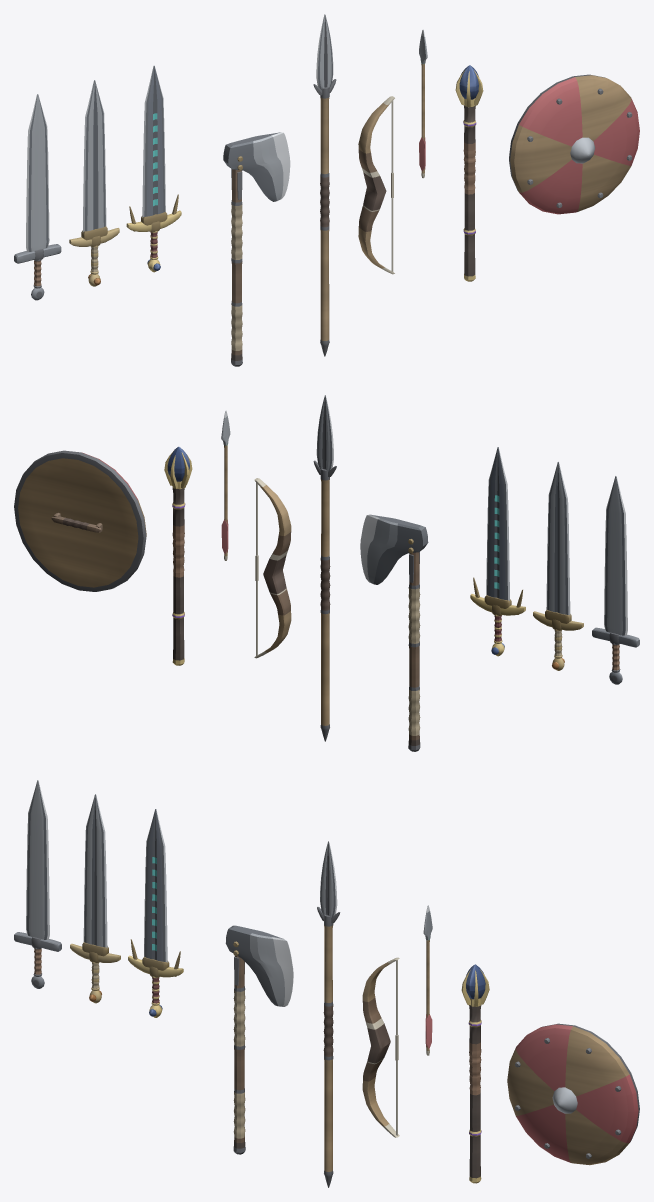
Rendered from ROBLOX_WEAPONRY_SET_01_ALL.fbx.
3 renders of one model, top to bottom at view 1: azimuth 30°, elevation 25°; view 2: azimuth 150°, elevation 25°; view 3: azimuth 330°, elevation 25°, orthographic.
Parts seen in each view (by area): view 1: EXP_WPN_08_Shield_Round_Bulwark, EXP_WPN_04_Greataxe_Ironjaw, EXP_WPN_03_Sword_T3_Legendary, EXP_WPN_01_Sword_T1_Common, EXP_WPN_02_Sword_T2_Rare, EXP_WPN_05_Spear_Wardens_Pike, EXP_WPN_07_Staff_Runewarden, EXP_WPN_06_Bow_Recurve_Hunters, EXP_WPN_06B_Arrow_Hunters; view 2: EXP_WPN_08_Shield_Round_Bulwark, EXP_WPN_04_Greataxe_Ironjaw, EXP_WPN_03_Sword_T3_Legendary, EXP_WPN_01_Sword_T1_Common, EXP_WPN_02_Sword_T2_Rare, EXP_WPN_05_Spear_Wardens_Pike, EXP_WPN_07_Staff_Runewarden, EXP_WPN_06_Bow_Recurve_Hunters, EXP_WPN_06B_Arrow_Hunters; view 3: EXP_WPN_08_Shield_Round_Bulwark, EXP_WPN_04_Greataxe_Ironjaw, EXP_WPN_03_Sword_T3_Legendary, EXP_WPN_01_Sword_T1_Common, EXP_WPN_02_Sword_T2_Rare, EXP_WPN_05_Spear_Wardens_Pike, EXP_WPN_07_Staff_Runewarden, EXP_WPN_06_Bow_Recurve_Hunters, EXP_WPN_06B_Arrow_Hunters.
Part boxes in pixels (bbox=[...]): EXP_WPN_08_Shield_Round_Bulwark: bbox=[509, 74, 639, 214]; EXP_WPN_04_Greataxe_Ironjaw: bbox=[223, 132, 290, 366]; EXP_WPN_03_Sword_T3_Legendary: bbox=[126, 65, 181, 272]; EXP_WPN_01_Sword_T1_Common: bbox=[14, 94, 61, 300]; EXP_WPN_02_Sword_T2_Rare: bbox=[69, 80, 119, 286]; EXP_WPN_05_Spear_Wardens_Pike: bbox=[313, 14, 336, 356]; EXP_WPN_07_Staff_Runewarden: bbox=[455, 65, 483, 281]; EXP_WPN_06_Bow_Recurve_Hunters: bbox=[358, 96, 394, 274]; EXP_WPN_06B_Arrow_Hunters: bbox=[419, 29, 427, 178]; EXP_WPN_08_Shield_Round_Bulwark: bbox=[14, 450, 146, 591]; EXP_WPN_04_Greataxe_Ironjaw: bbox=[360, 514, 428, 751]; EXP_WPN_03_Sword_T3_Legendary: bbox=[470, 447, 525, 656]; EXP_WPN_01_Sword_T1_Common: bbox=[592, 476, 639, 684]; EXP_WPN_02_Sword_T2_Rare: bbox=[533, 461, 583, 670]; EXP_WPN_05_Spear_Wardens_Pike: bbox=[313, 395, 336, 741]; EXP_WPN_07_Staff_Runewarden: bbox=[164, 446, 192, 665]; EXP_WPN_06_Bow_Recurve_Hunters: bbox=[254, 478, 291, 658]; EXP_WPN_06B_Arrow_Hunters: bbox=[221, 410, 230, 560]; EXP_WPN_08_Shield_Round_Bulwark: bbox=[507, 1023, 639, 1165]; EXP_WPN_04_Greataxe_Ironjaw: bbox=[225, 925, 293, 1154]; EXP_WPN_03_Sword_T3_Legendary: bbox=[128, 809, 183, 1017]; EXP_WPN_01_Sword_T1_Common: bbox=[14, 780, 61, 988]; EXP_WPN_02_Sword_T2_Rare: bbox=[70, 794, 120, 1003]; EXP_WPN_05_Spear_Wardens_Pike: bbox=[317, 841, 340, 1187]; EXP_WPN_07_Staff_Runewarden: bbox=[461, 964, 489, 1183]; EXP_WPN_06_Bow_Recurve_Hunters: bbox=[362, 957, 399, 1137]; EXP_WPN_06B_Arrow_Hunters: bbox=[423, 905, 432, 1055].
Size of the model in its own units: 1198 by 632 by 84.77.
1 material, 1 textured.
